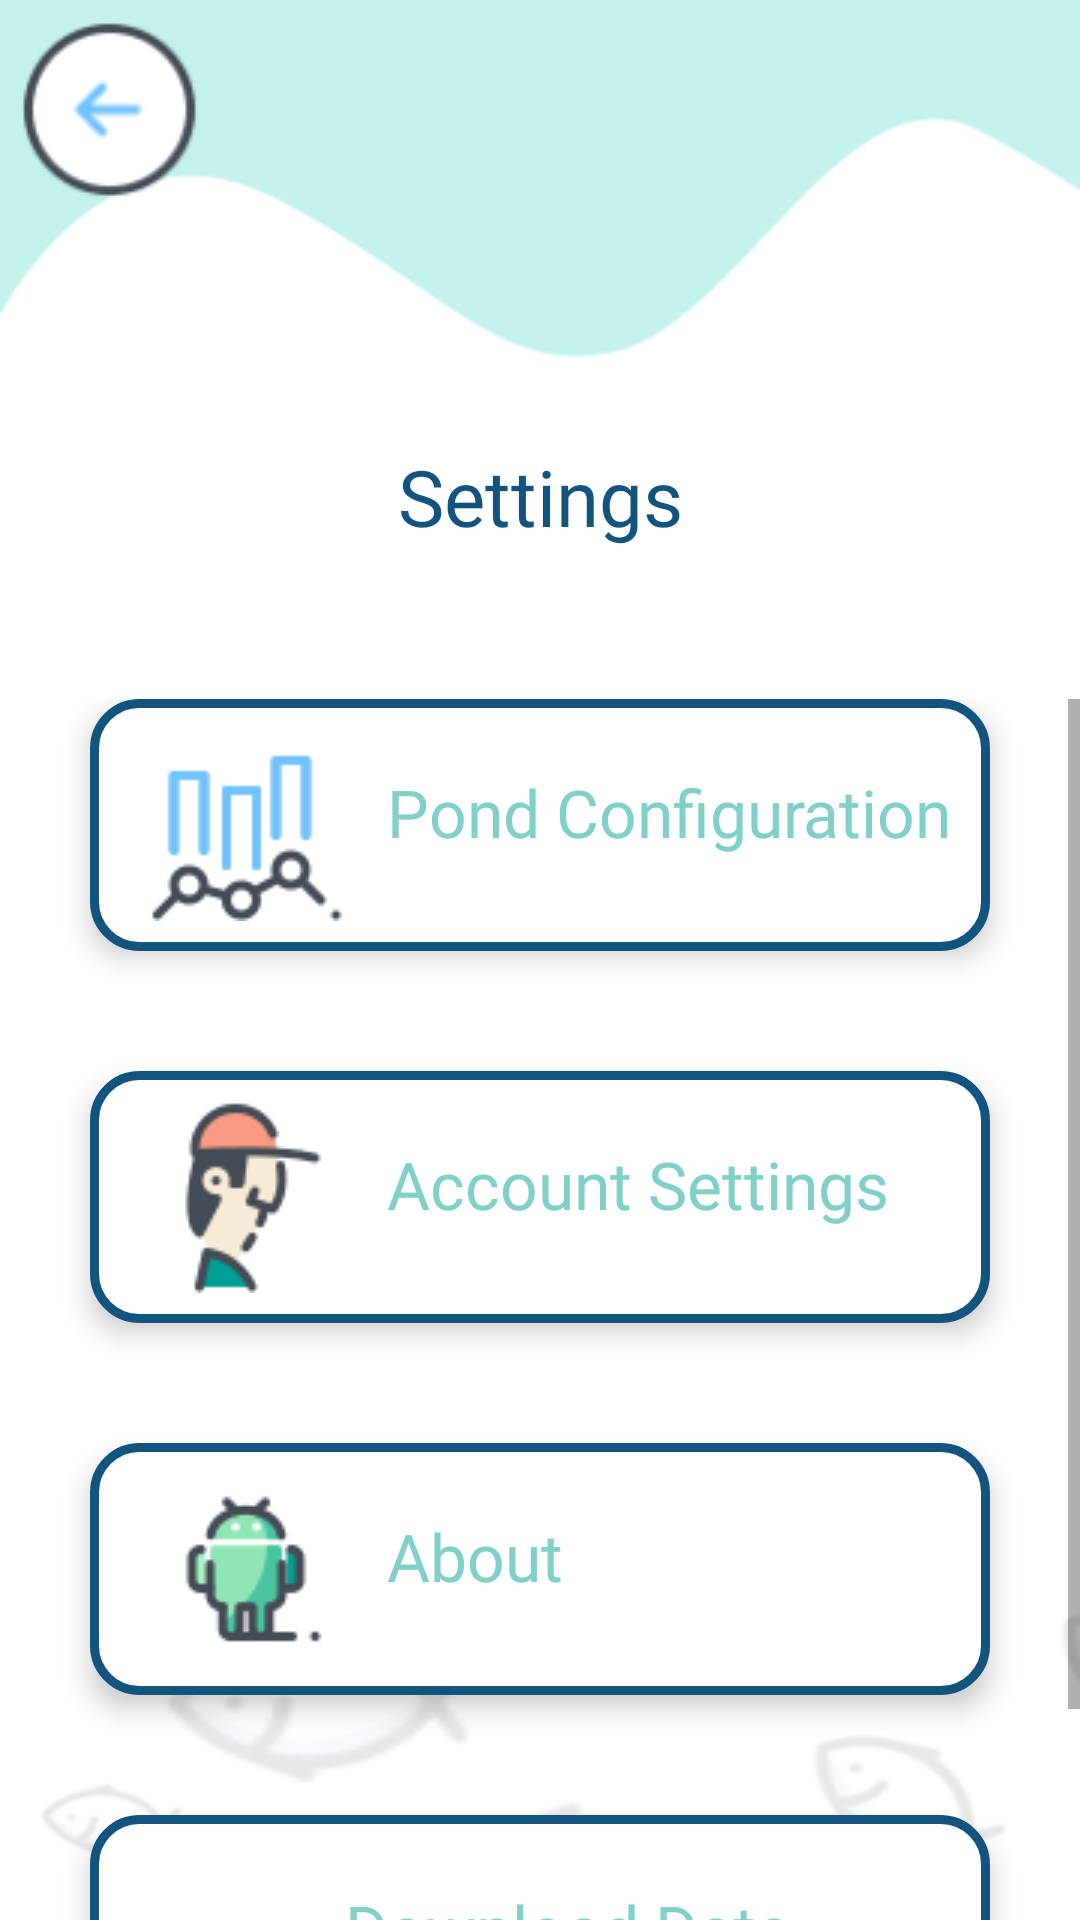

Screen size 1080x1920. Icon name, then its center in pixels as (x=x, y=y):
back: (x=113, y=113)
